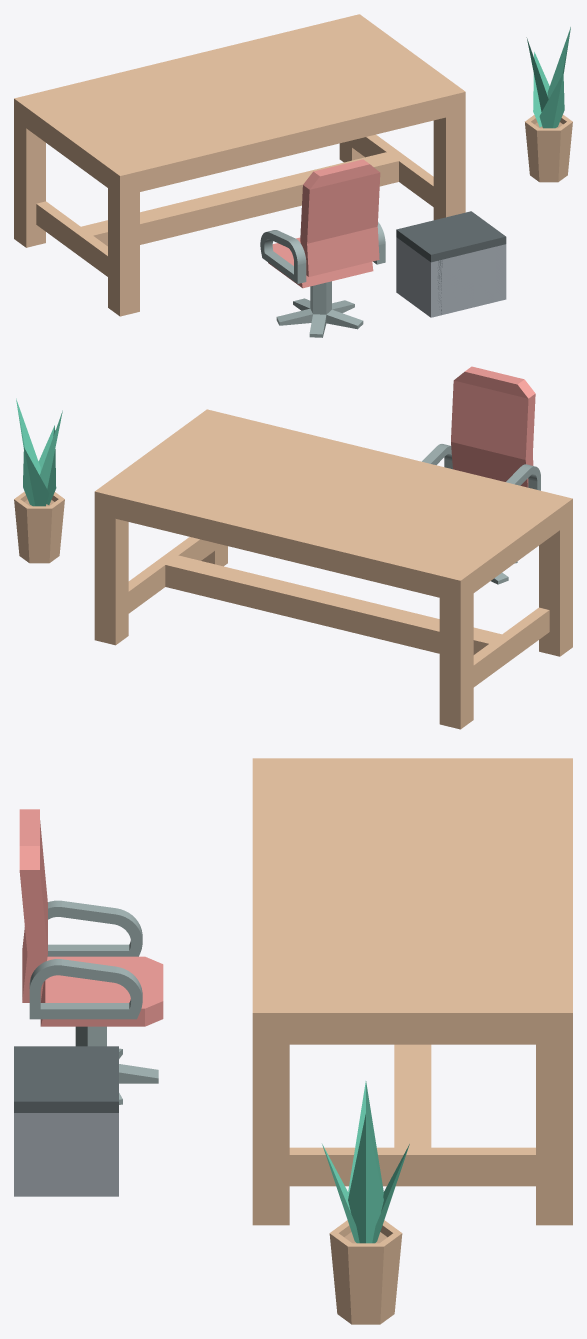
The picture shows the model from 3 angles, top to bottom: view 1: azimuth 30°, elevation 25°; view 2: azimuth 150°, elevation 25°; view 3: azimuth 270°, elevation 25°; orthographic projection. The views are drawn at different scales.
Parts seen in each view (by area): view 1: table_green__table(Clone), deskchair_black__chair, crate_red__crate_red shell, crate_red__crate_red lid, plant_pink__pottedPlant(Clone), deskchair_black__chairDesk(Clone), plant_pink__plant; view 2: table_green__table(Clone), deskchair_black__chair, plant_pink__pottedPlant(Clone), plant_pink__plant; view 3: table_green__table(Clone), deskchair_black__chair, crate_red__crate_red shell, crate_red__crate_red lid, plant_pink__pottedPlant(Clone), plant_pink__plant, deskchair_black__chairDesk(Clone).
Boxes of the visible parts, x1,y1,x2,y2 form: table_green__table(Clone): (14,14,465,316); deskchair_black__chair: (260,159,385,288); crate_red__crate_red shell: (396,237,506,317); crate_red__crate_red lid: (396,211,506,262); plant_pink__pottedPlant(Clone): (525,114,572,182); deskchair_black__chairDesk(Clone): (276,281,363,337); plant_pink__plant: (526,27,570,128); table_green__table(Clone): (94,409,572,729); deskchair_black__chair: (422,366,540,490); plant_pink__pottedPlant(Clone): (14,491,64,563); plant_pink__plant: (16,398,62,506); table_green__table(Clone): (252,758,572,1225); deskchair_black__chair: (19,809,163,1026); crate_red__crate_red shell: (14,1113,118,1196); crate_red__crate_red lid: (14,1046,118,1112); plant_pink__pottedPlant(Clone): (329,1220,402,1324); plant_pink__plant: (322,1081,409,1243); deskchair_black__chairDesk(Clone): (75,1026,158,1104).
Bounding box in the file's own units: 2.73 × 0.89 × 1.79.
